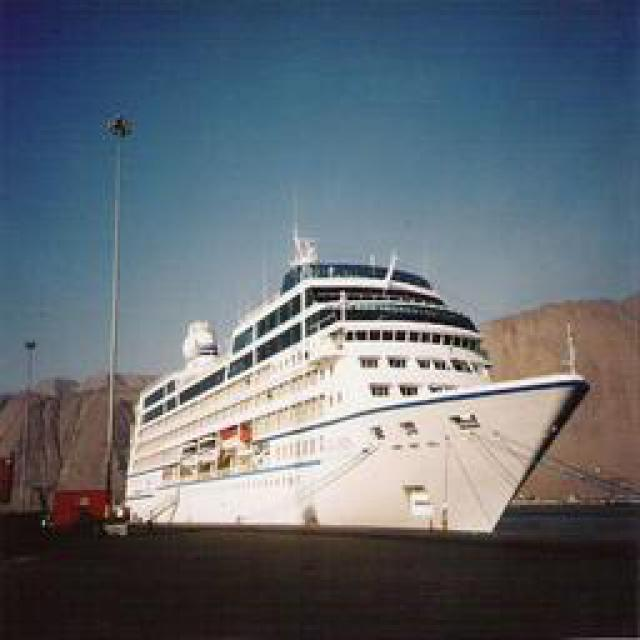Ship: (132, 245, 595, 545)
